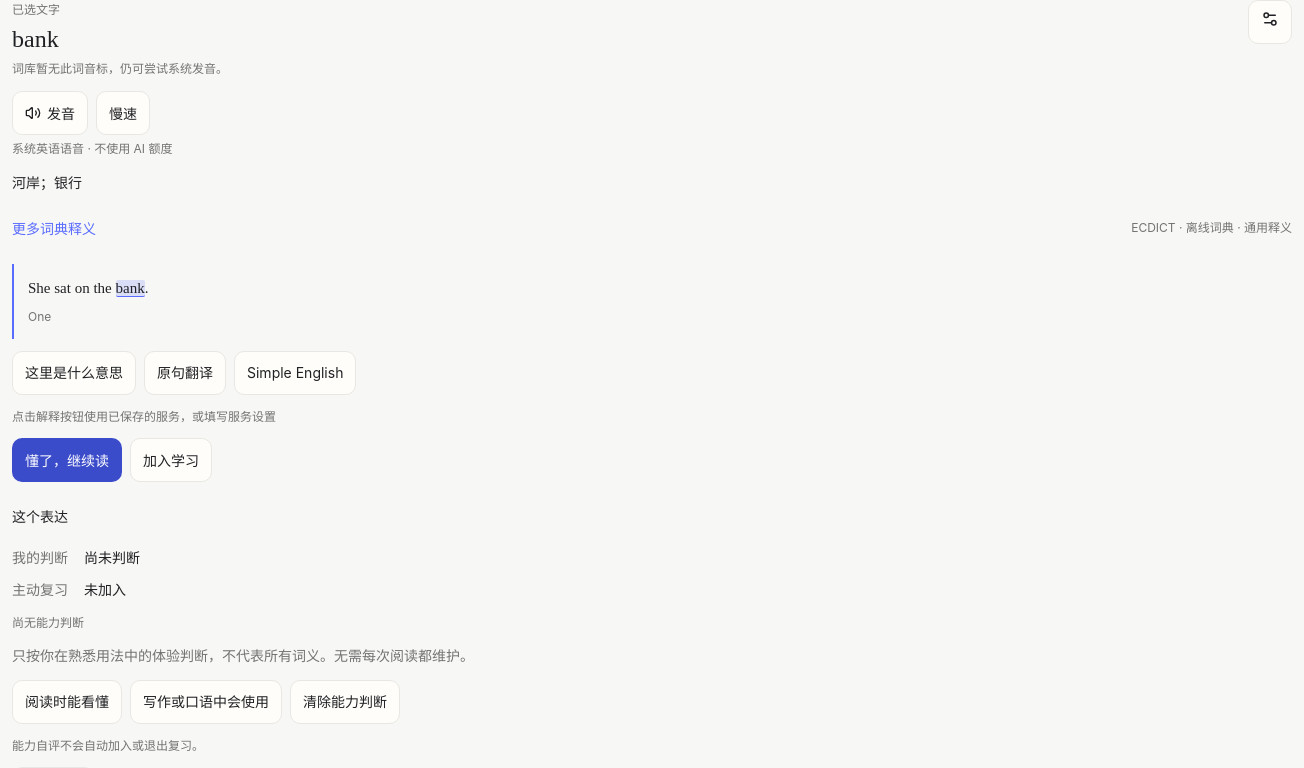
Test case: self assessment stays optional and does not enroll, change exclusion or create a card
The image size is (1304, 768).
Click the button "写作或口语中会使用" at [206, 702], box [130,680,282,724]
(page scrolled)
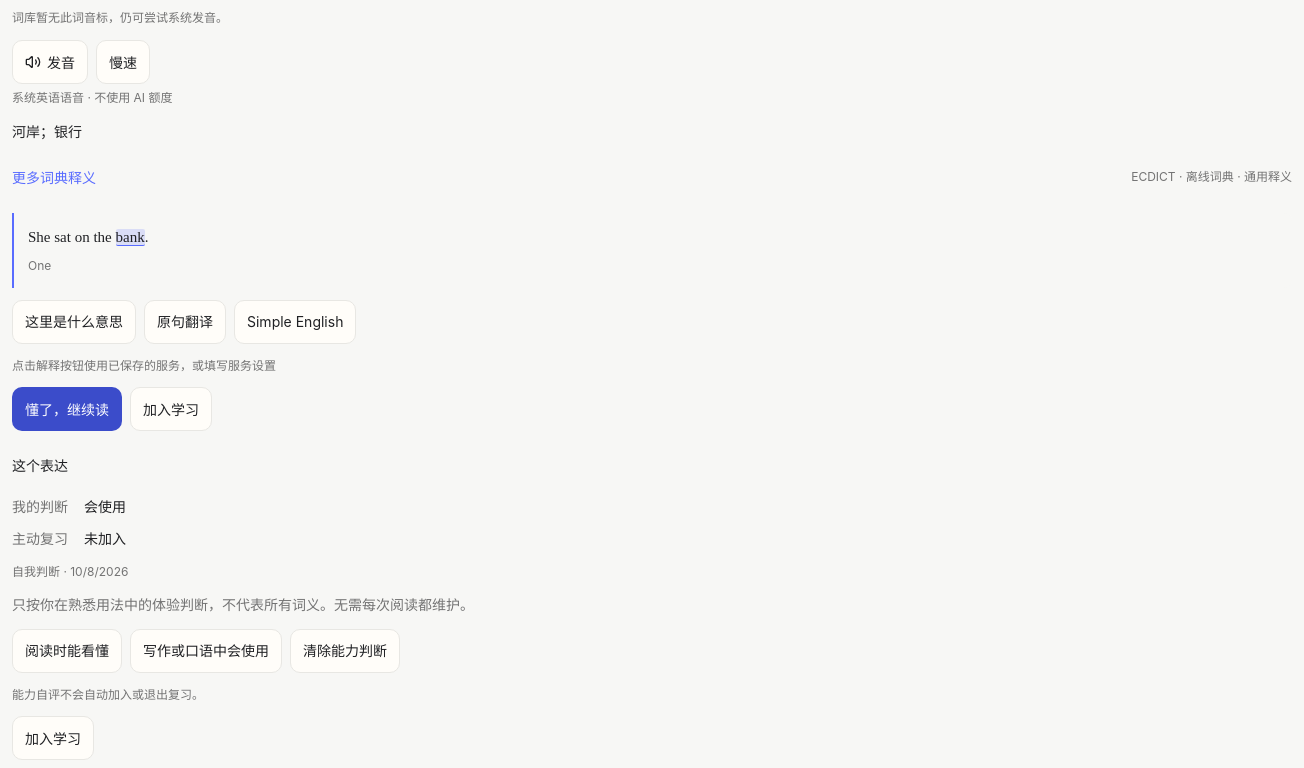
Now the element that starts with "这个表达" shows "自我判断", box [12,564,60,579]
